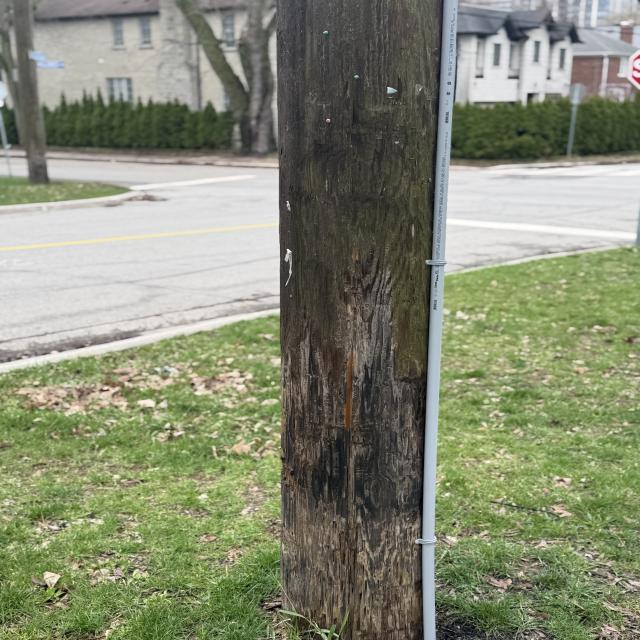Electrical Pole: (268, 2, 466, 640)
